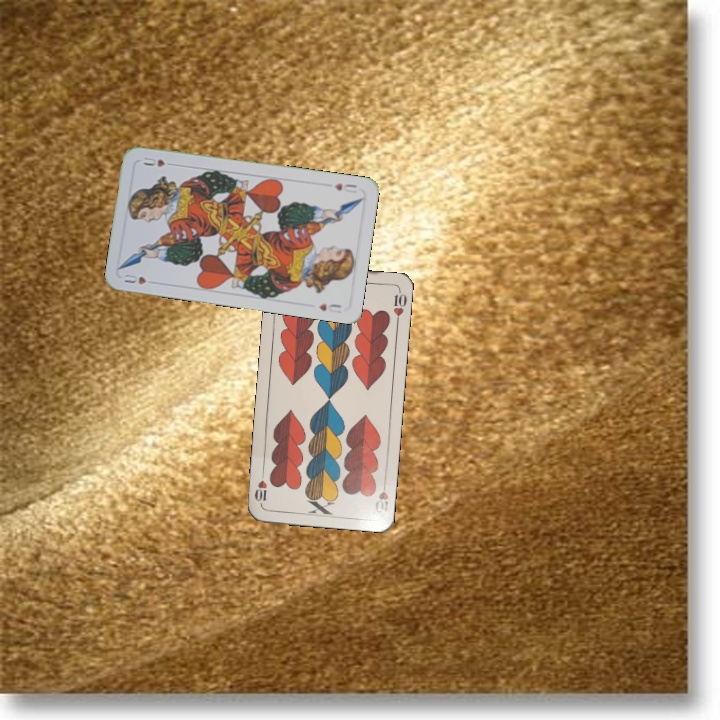H10: (371, 476, 391, 515)
HU: (330, 179, 359, 196), (120, 270, 148, 287)
